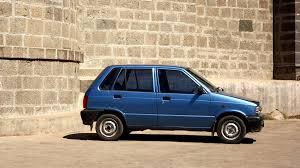Hatchback: (53, 33, 277, 157)
